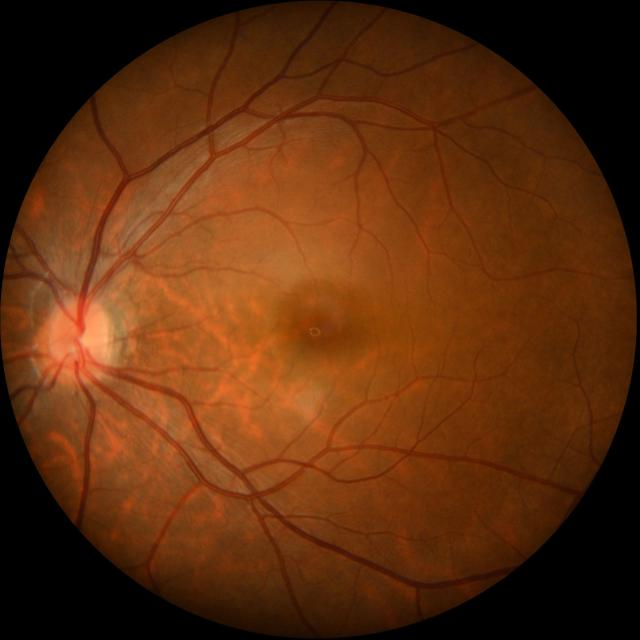OC: (73, 329, 96, 354)
OD: (47, 298, 110, 379)
